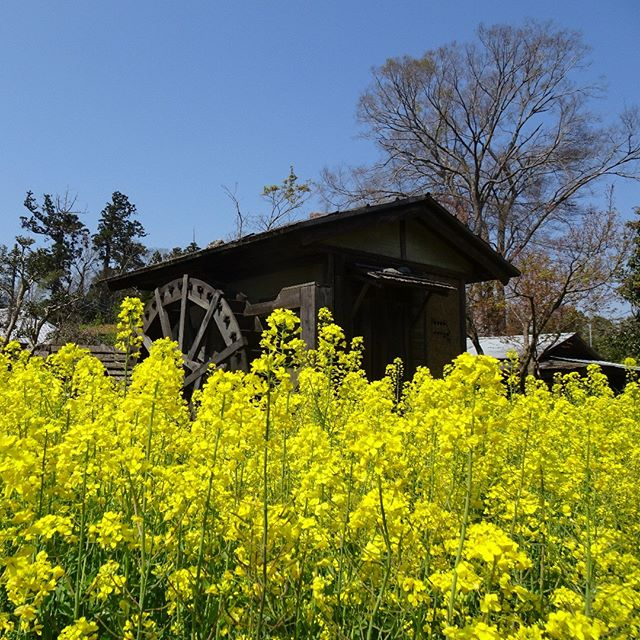building: (117, 190, 512, 402)
flowers: (13, 358, 640, 640)
sky: (1, 1, 364, 193)
tree: (361, 31, 626, 311), (1, 201, 91, 325), (87, 184, 149, 281)
